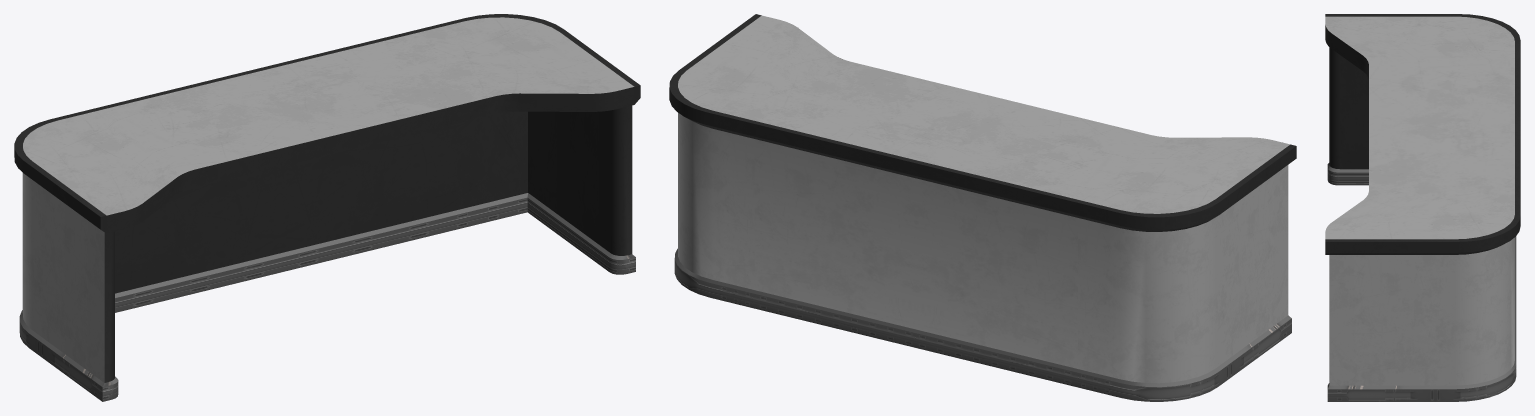
The model's file is Prop_Desk_Medium.gltf.
3 renders of one model, left to right at view 1: azimuth 30°, elevation 25°; view 2: azimuth 150°, elevation 25°; view 3: azimuth 270°, elevation 25°, orthographic. The views are drawn at different scales.
Parts seen in each view (by area): view 1: Prop_Desk_Medium; view 2: Prop_Desk_Medium; view 3: Prop_Desk_Medium.
Part boxes in pixels (x1,y1,x2,y2): Prop_Desk_Medium: (14, 14, 640, 401); Prop_Desk_Medium: (669, 14, 1296, 401); Prop_Desk_Medium: (1325, 14, 1520, 401).
Bounding box in the file's own units: 2.84 × 0.9396 × 1.03.
Materials: 3 (3 with a texture image).
